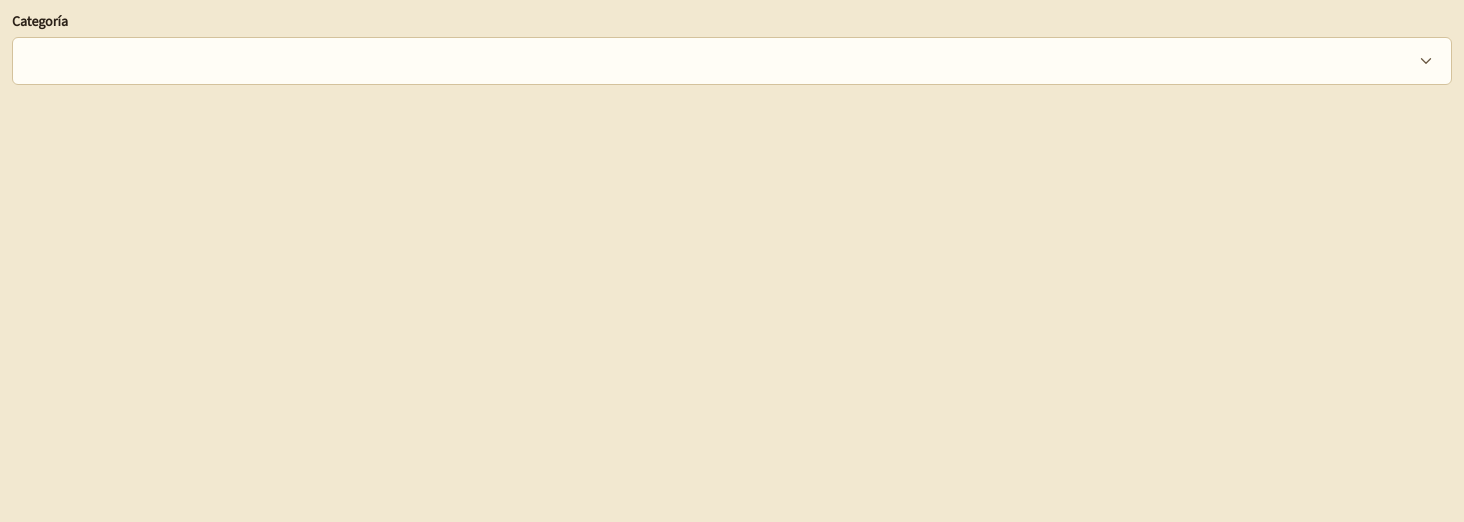
Test: SelectorConBuscador › el modo filtro pone «Todas» primero y no tiene pie aunque haya alta
Click the dropdown named "Categoría" at point(1426, 61), box [12,37,1452,85]
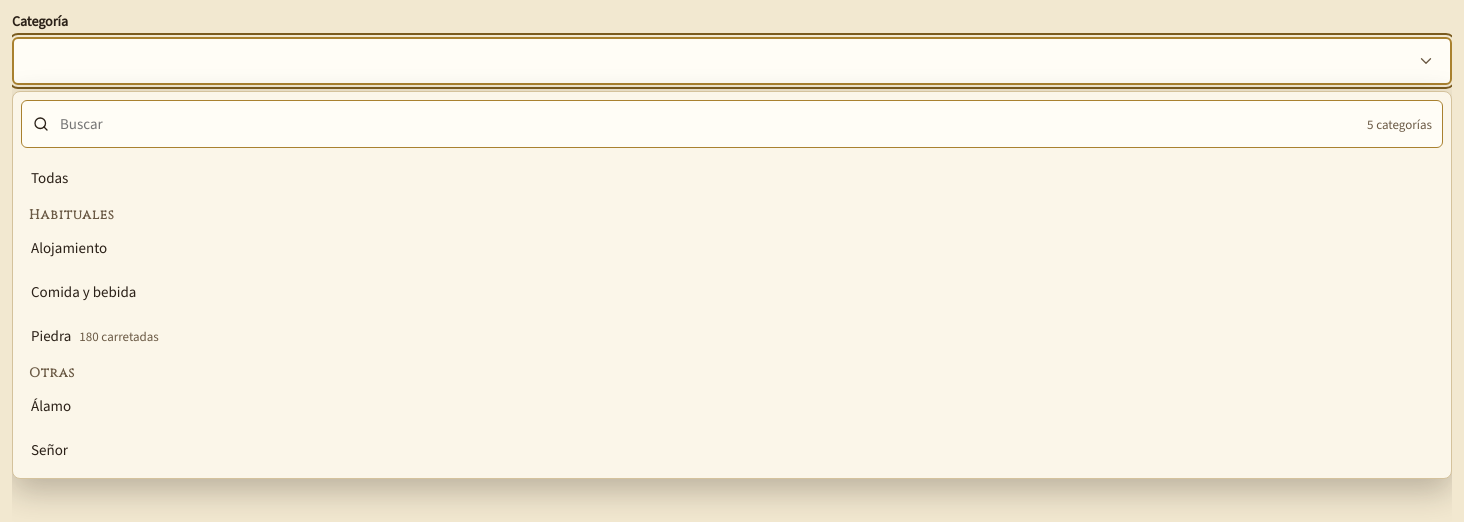
Result: the option "Todas" is shown at [31,168,68,188]
